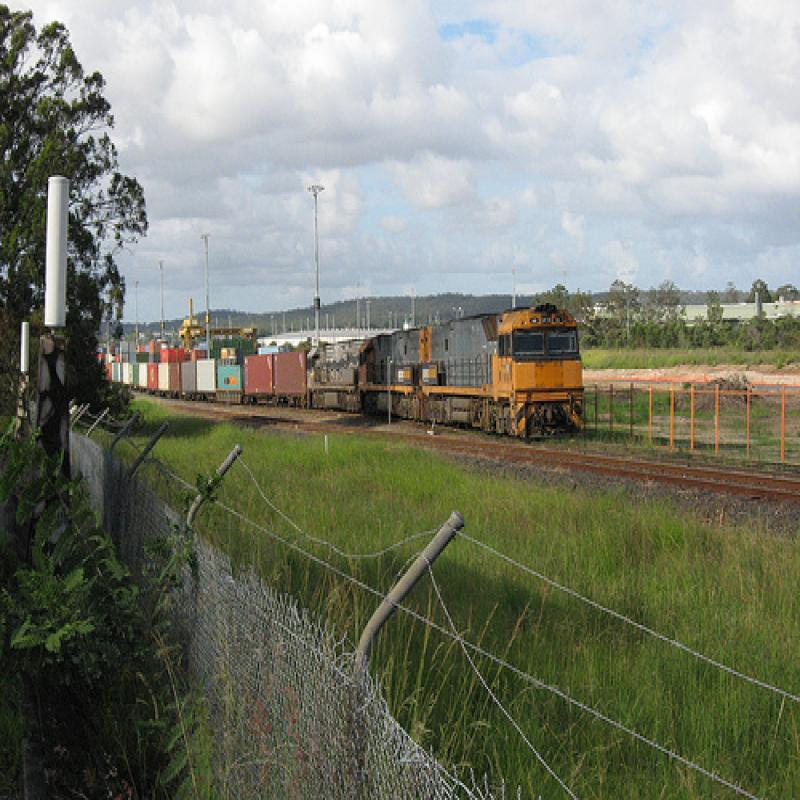train: (100, 304, 588, 445)
